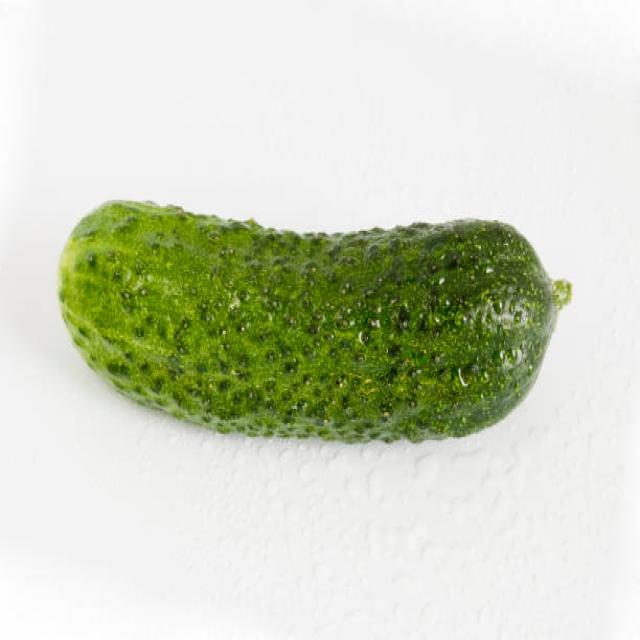cucumber: (56, 194, 553, 446)
